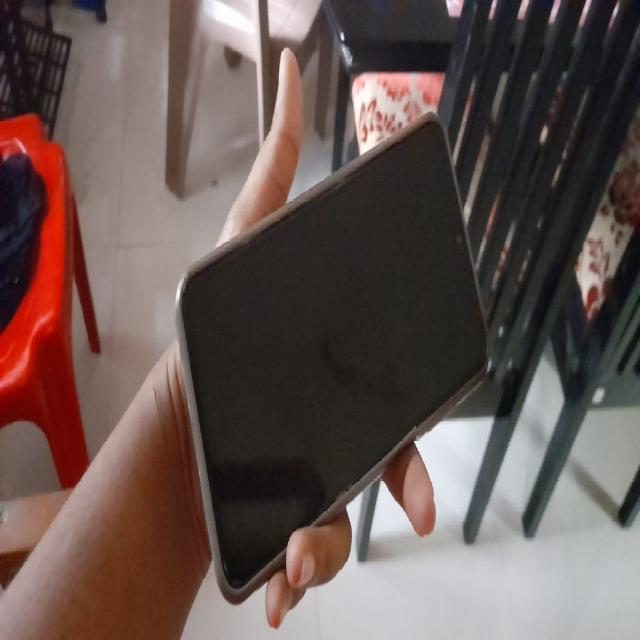Mobile - Recyclable: (163, 103, 496, 612)
